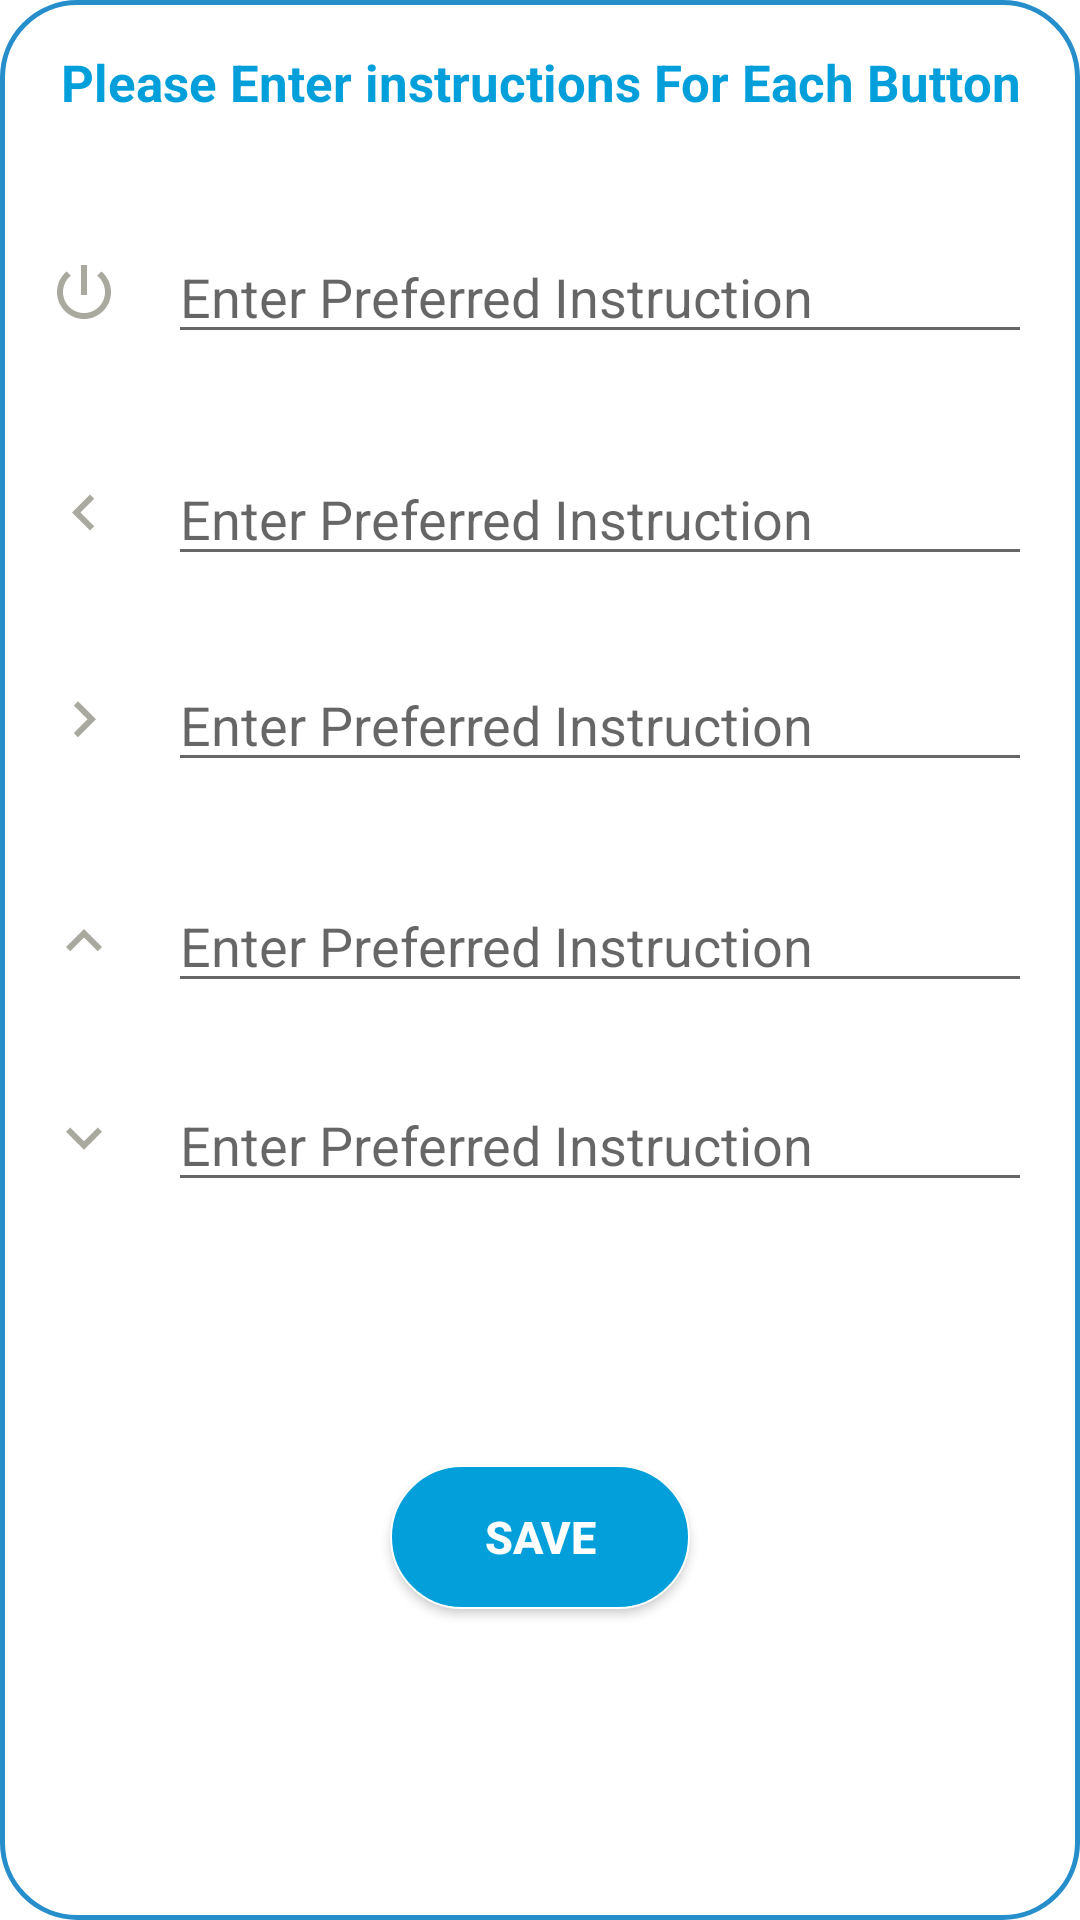

Icons on this 1080px×1920px Android screen, each with the point to tap as (x=x, y=y):
arrow down: (x=84, y=1139)
arrow left: (x=83, y=512)
arrow right: (x=85, y=719)
arrow up: (x=84, y=940)
power: (x=84, y=292)
